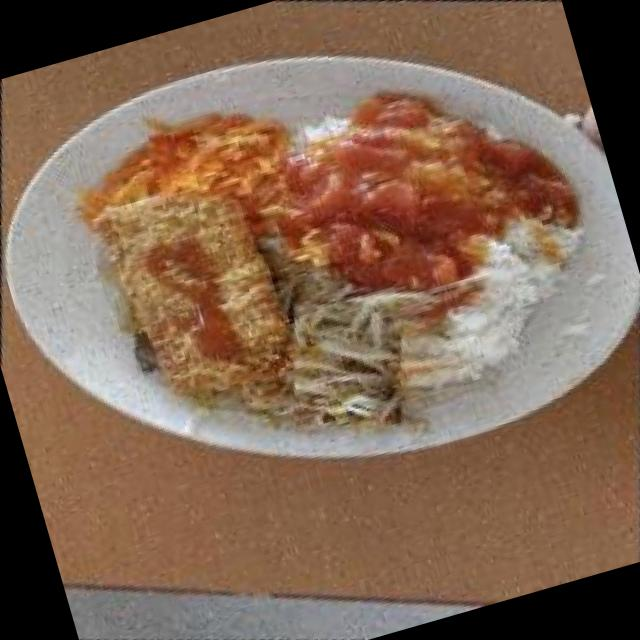carrot_eggs: (133, 102, 292, 230)
mung_bean_sprouts: (261, 276, 434, 452)
rice: (428, 263, 554, 381)
triangle_hash_brown: (72, 172, 328, 422)
